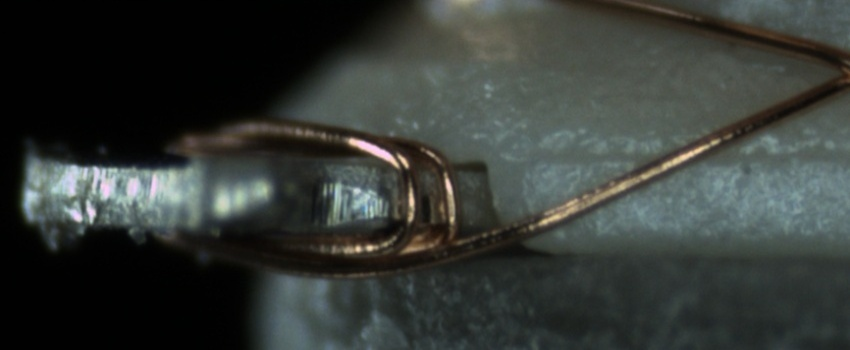CL: (804, 40, 850, 103)
DL: (524, 124, 849, 187)
TE: (187, 109, 453, 262)
